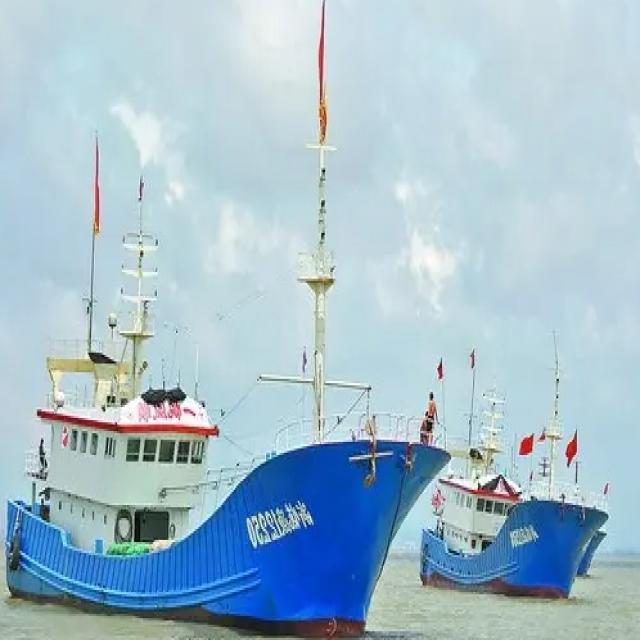fishing boat: (0, 143, 444, 637), (409, 314, 611, 594)
